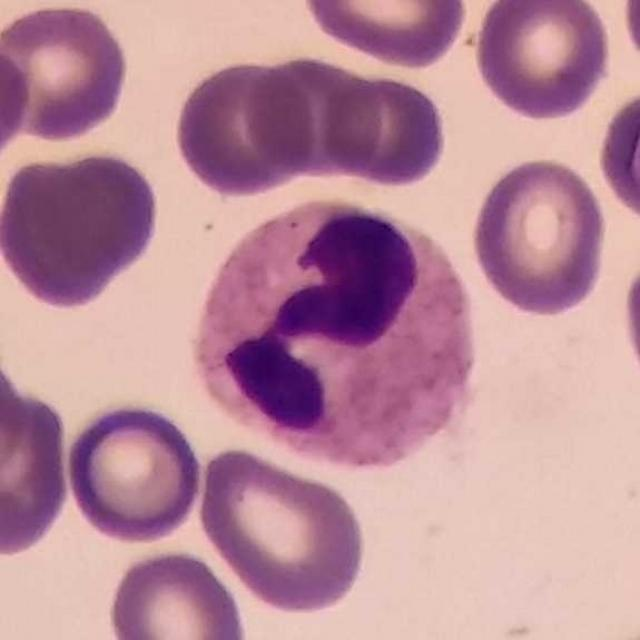Neutrophil: (177, 186, 492, 482)
RBC: (194, 442, 372, 618), (1, 146, 166, 312), (466, 153, 611, 320), (61, 396, 206, 548), (170, 56, 318, 199), (0, 0, 134, 145), (242, 51, 388, 180), (469, 0, 615, 122), (317, 68, 452, 191), (102, 544, 252, 640), (0, 381, 73, 560), (300, 0, 471, 70), (593, 81, 640, 233), (0, 37, 35, 179), (0, 346, 28, 491), (621, 250, 640, 376), (619, 0, 640, 76)
